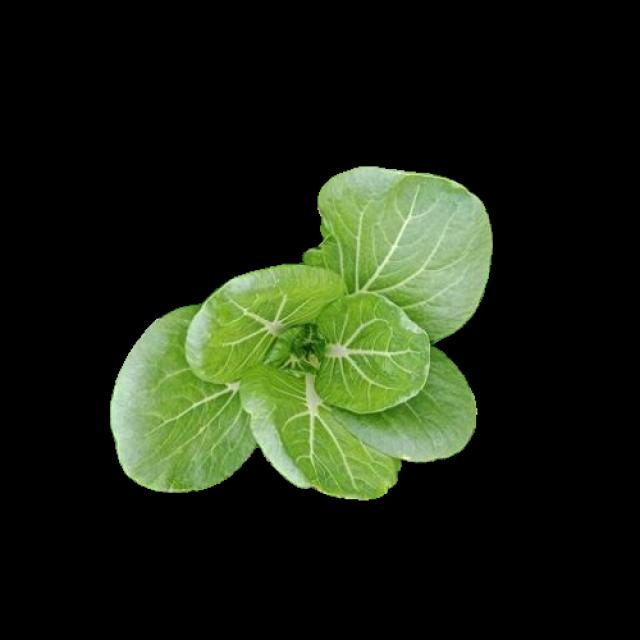healthy: (106, 162, 492, 498)
not-mature: (109, 165, 494, 501)
